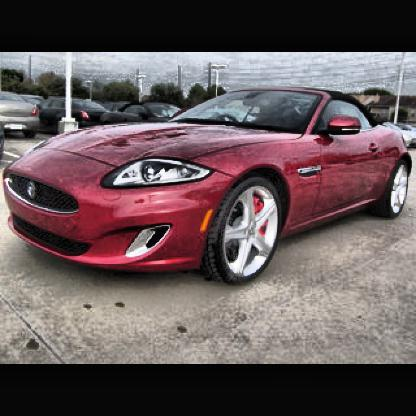Jaguar XK XKR 2012: (5, 88, 412, 289)
